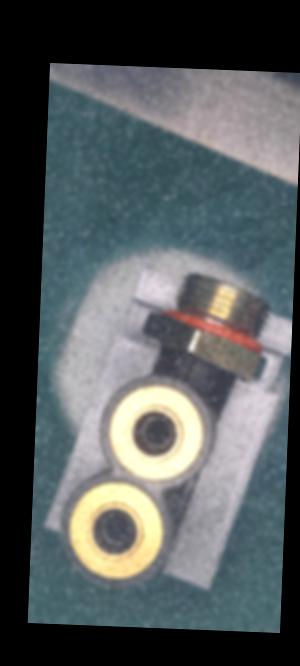craze: (183, 356, 196, 382)
